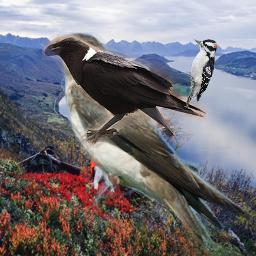Crow: (42, 34, 206, 148)
Swallow: (54, 32, 253, 250)
Woodpecker: (186, 36, 220, 109)
